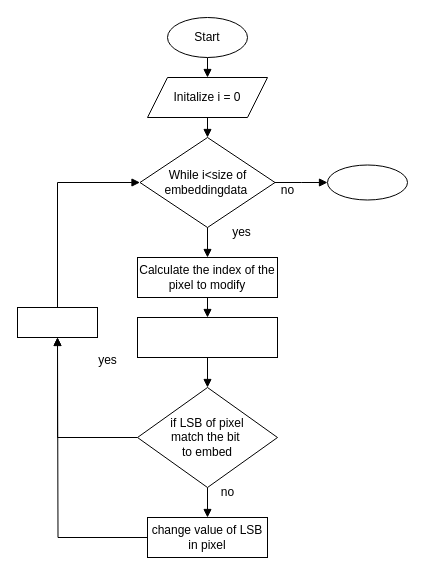
This 425x575 diagram has some shape labels left out. Each missing label, with the centre of its shape:
"Extract bit that need to be embedded" goes at [207,337].
"i=i+1" goes at [57,322].
"Stop" goes at [367,182].
